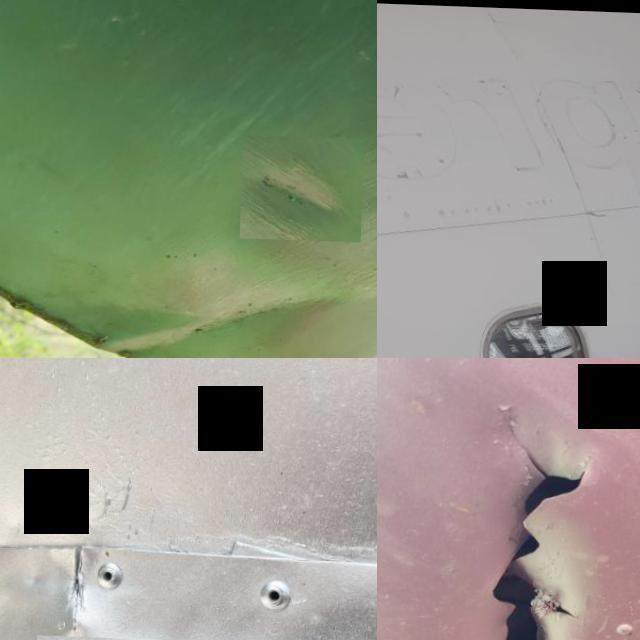Crack: (432, 411, 613, 640), (42, 531, 112, 640), (585, 204, 613, 218)
Dent: (68, 228, 376, 358), (242, 133, 366, 239)
